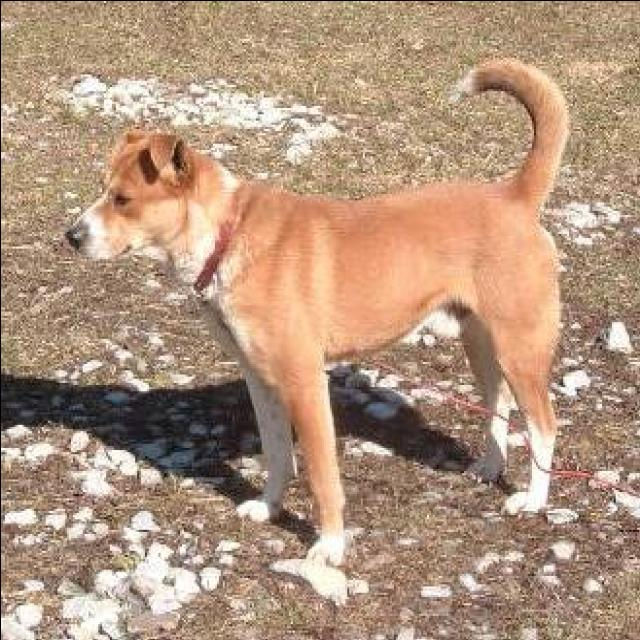dog: (64, 49, 586, 588)
